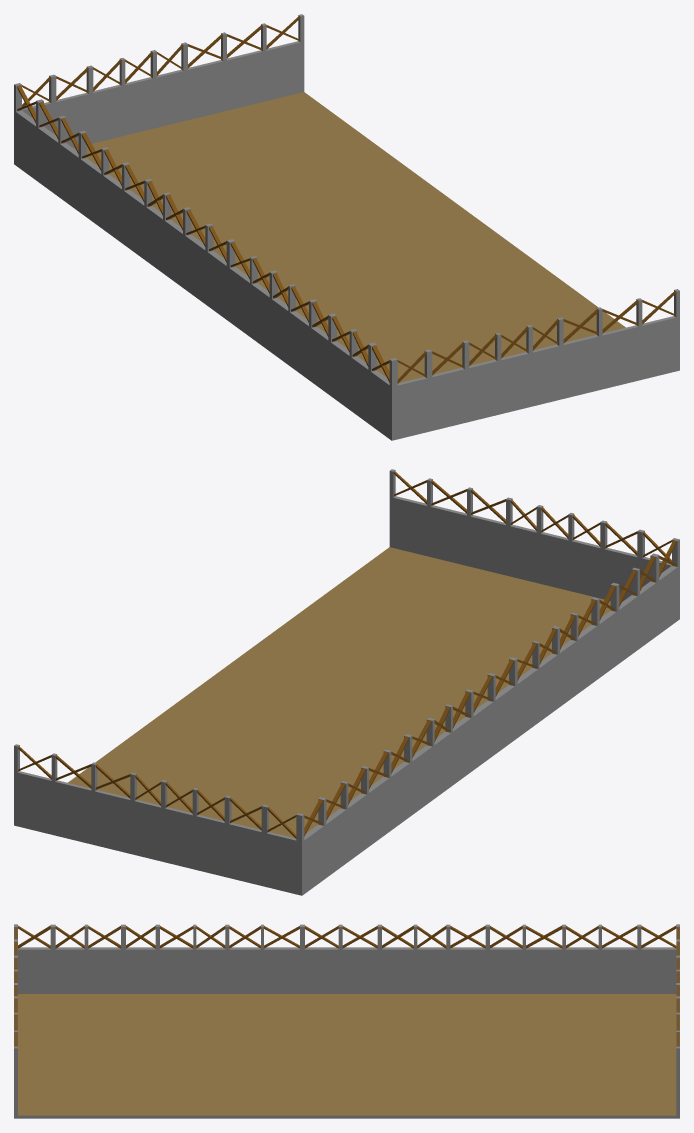
File: square (1).fbx
The picture shows the model from 3 angles, top to bottom: view 1: azimuth 30°, elevation 25°; view 2: azimuth 150°, elevation 25°; view 3: azimuth 270°, elevation 25°; orthographic projection. The views are drawn at different scales.
Parts seen in each view (by area): view 1: Cube; view 2: Cube; view 3: Cube.
Part boxes in pixels (bbox=[...]): Cube: bbox=[14, 14, 679, 440]; Cube: bbox=[14, 469, 679, 895]; Cube: bbox=[14, 924, 679, 1118].
Size of the model in its own units: 2703 by 722 by 6139.
